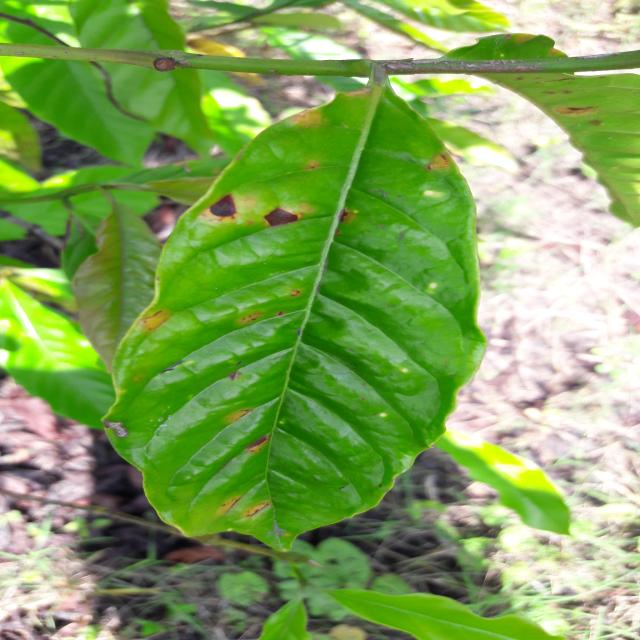Enfermedad-Roya: (109, 90, 488, 555)
